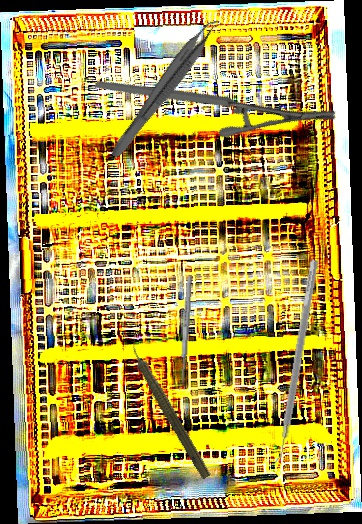Handpiece: (120, 333, 217, 482)
Needle Holder: (92, 6, 341, 193)
Spatula Surgical: (268, 257, 319, 469)
Surgical Spoon: (178, 275, 193, 391)
Tissue Forceps: (108, 11, 225, 166)
